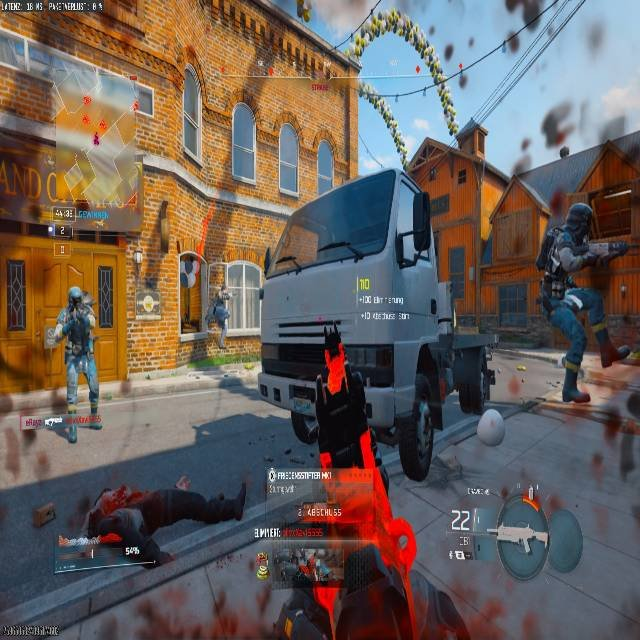head: (321, 331, 349, 393), (566, 202, 594, 237), (67, 286, 82, 306)
player: (257, 330, 418, 640), (534, 202, 633, 402), (408, 331, 453, 481), (53, 286, 101, 417), (206, 288, 232, 354)
